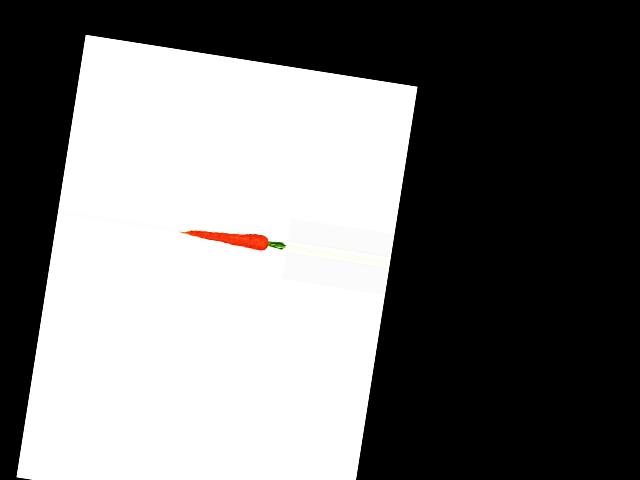carrot: (177, 209, 277, 259)
